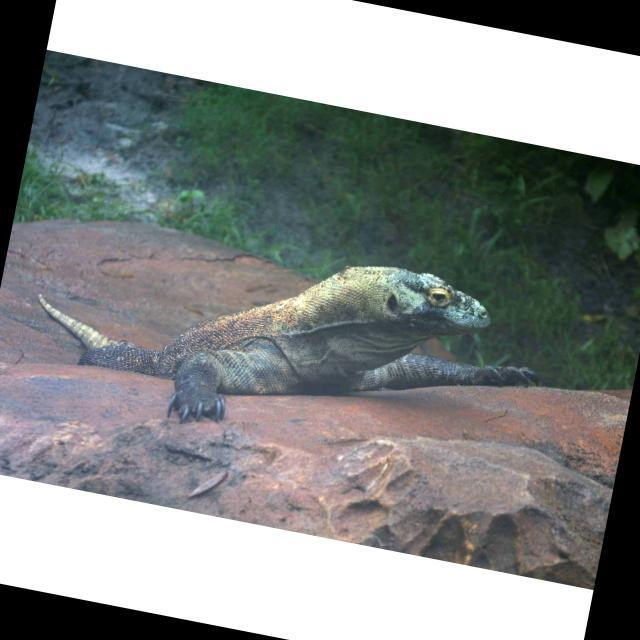KomodoDragon: (16, 199, 559, 492)
